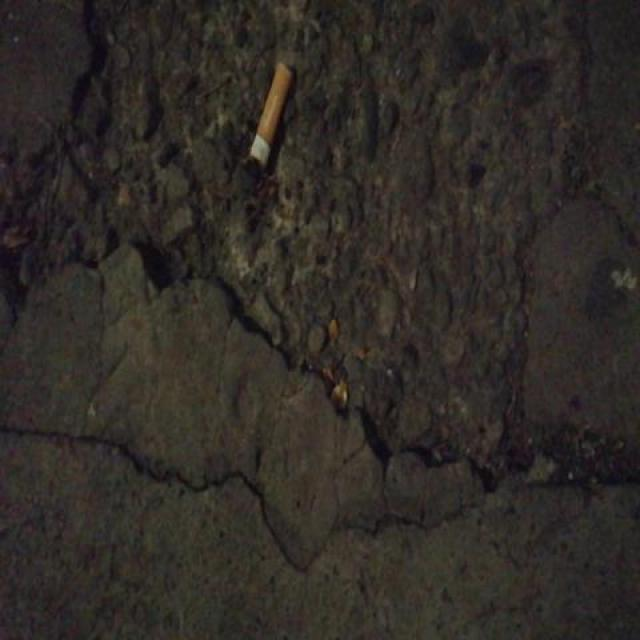non-organic waste: (246, 58, 297, 173)
